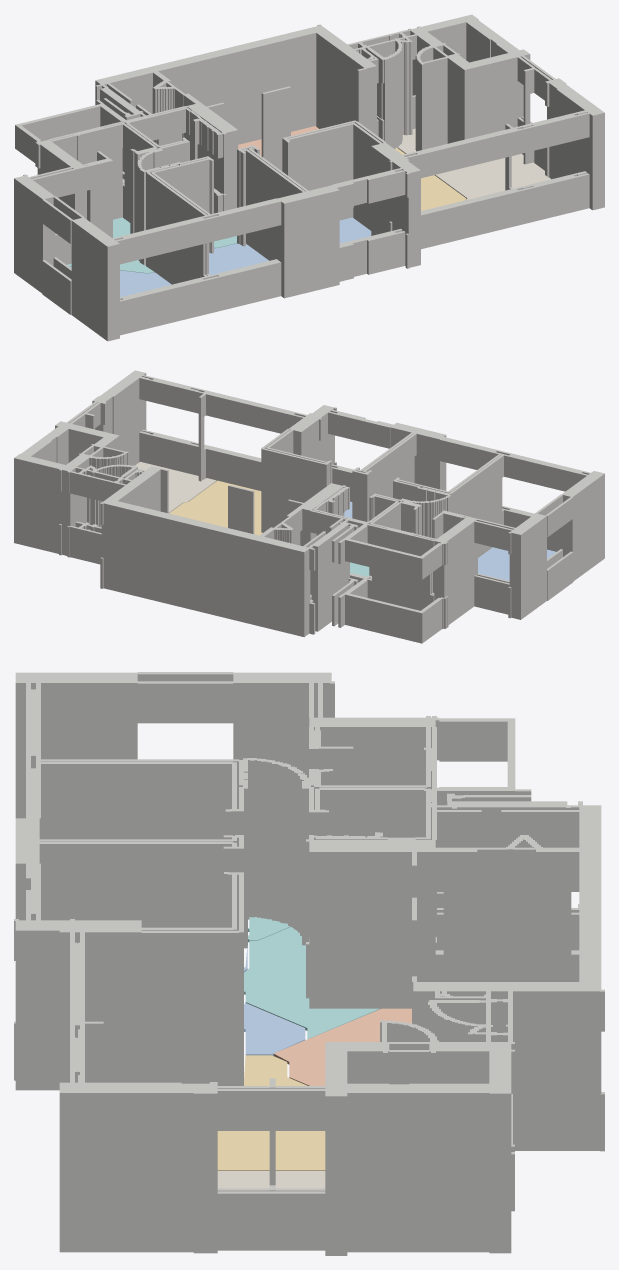
The picture shows the model from 3 angles, top to bottom: view 1: azimuth 30°, elevation 25°; view 2: azimuth 150°, elevation 25°; view 3: azimuth 270°, elevation 25°; orthographic projection. The views are drawn at different scales.
Parts seen in each view (by area): view 1: walls, room:other:8, room:bedroom:10, room:living:6, room:bedroom:7, room:bath:3, room:bedroom:9; view 2: walls, room:living:6, room:other:8, room:bedroom:7; view 3: walls, room:bath:5, room:living:6, room:kitchen:0, room:bedroom:9, room:other:8.
Part boxes in pixels (x1,y1,x2,y2): walls: (14,14,604,341); room:other:8: (398,128,550,199); room:bedroom:10: (209,243,268,274); room:living:6: (395,147,466,210); room:bedroom:7: (70,266,171,297); room:bath:3: (67,217,153,273); room:bedroom:9: (339,217,371,243); walls: (14,370,604,643); room:living:6: (169,480,262,535); room:other:8: (135,461,216,513); room:bedroom:7: (478,547,555,580); walls: (14,672,604,1255); room:bath:5: (244,927,379,1039); room:living:6: (217,1055,325,1170); room:kitchen:0: (273,1008,411,1085); room:bedroom:9: (244,1003,305,1055); room:other:8: (217,1171,325,1188).
Bounding box in the file's own units: 15.95 × 2.8 × 9.39.
